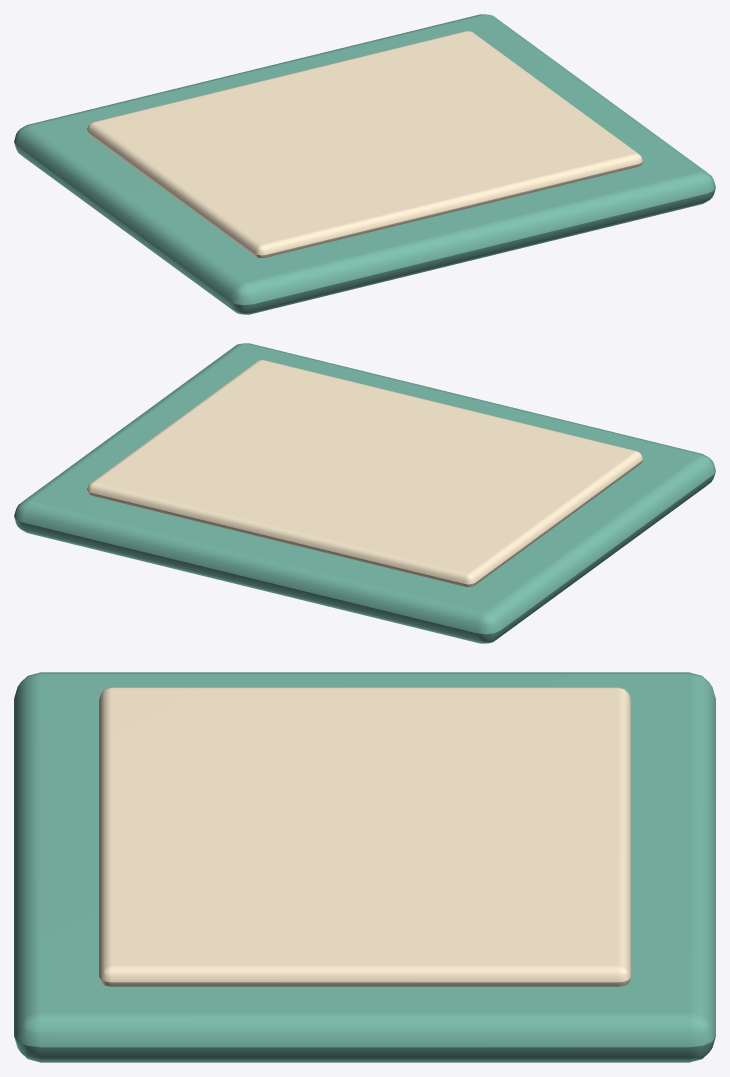
The model's file is Tub_transport_lid.fbx.
3 renders of one model, top to bottom at view 1: azimuth 30°, elevation 25°; view 2: azimuth 150°, elevation 25°; view 3: azimuth 270°, elevation 25°, orthographic. The views are drawn at different scales.
Visible parts, largest first — view 1: Toon_Tub_transport_lid Lid inset.001, Toon_Tub_transport_lid Tub lid.001; view 2: Toon_Tub_transport_lid Lid inset.001, Toon_Tub_transport_lid Tub lid.001; view 3: Toon_Tub_transport_lid Lid inset.001, Toon_Tub_transport_lid Tub lid.001.
Part boxes in pixels (left/top/right/bottom): Toon_Tub_transport_lid Lid inset.001: left=87, top=31, right=642, bottom=257; Toon_Tub_transport_lid Tub lid.001: left=14, top=14, right=715, bottom=314; Toon_Tub_transport_lid Lid inset.001: left=87, top=360, right=642, bottom=586; Toon_Tub_transport_lid Tub lid.001: left=14, top=343, right=715, bottom=643; Toon_Tub_transport_lid Lid inset.001: left=99, top=687, right=630, bottom=986; Toon_Tub_transport_lid Tub lid.001: left=14, top=672, right=715, bottom=1062.
Bounding box in the file's own units: 40 × 3.35 × 33.
